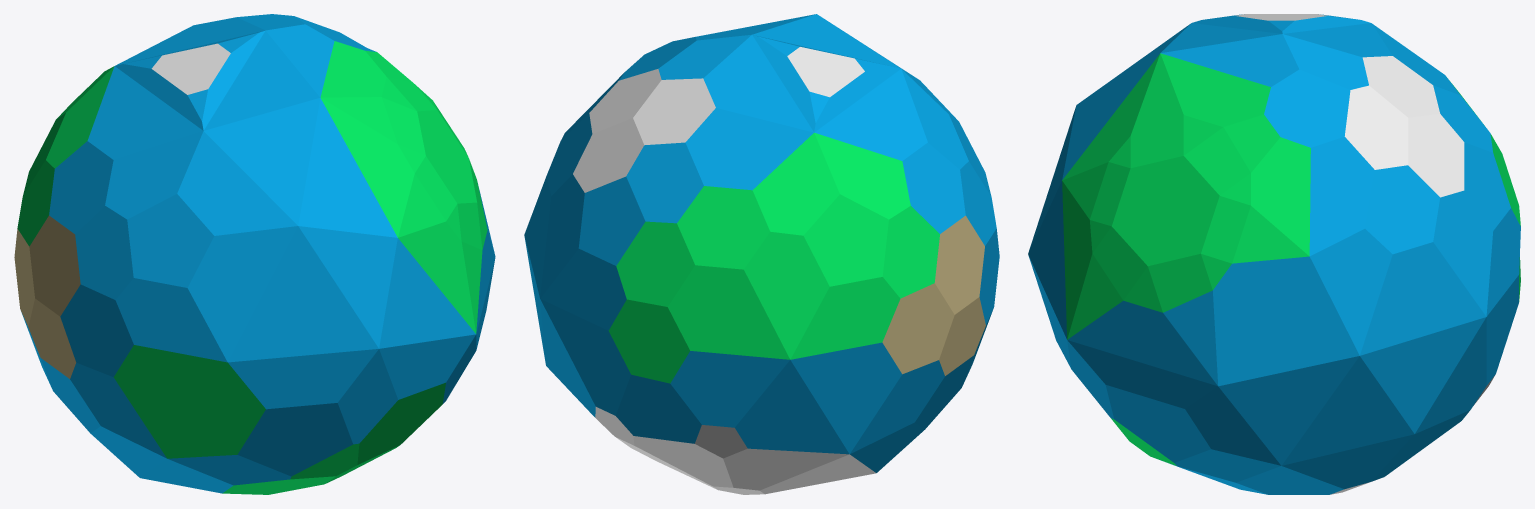
Rendered from Earth.fbx.
3 renders of one model, left to right at view 1: azimuth 30°, elevation 25°; view 2: azimuth 150°, elevation 25°; view 3: azimuth 270°, elevation 25°, orthographic. The views are drawn at different scales.
Visible parts, largest first — view 1: Icosphere; view 2: Icosphere; view 3: Icosphere.
Part boxes in pixels (left/top/right/bottom): Icosphere: left=14, top=14, right=495, bottom=494; Icosphere: left=524, top=14, right=999, bottom=494; Icosphere: left=1028, top=14, right=1520, bottom=494.
Bounding box in the file's own units: 444 × 459 × 450.
